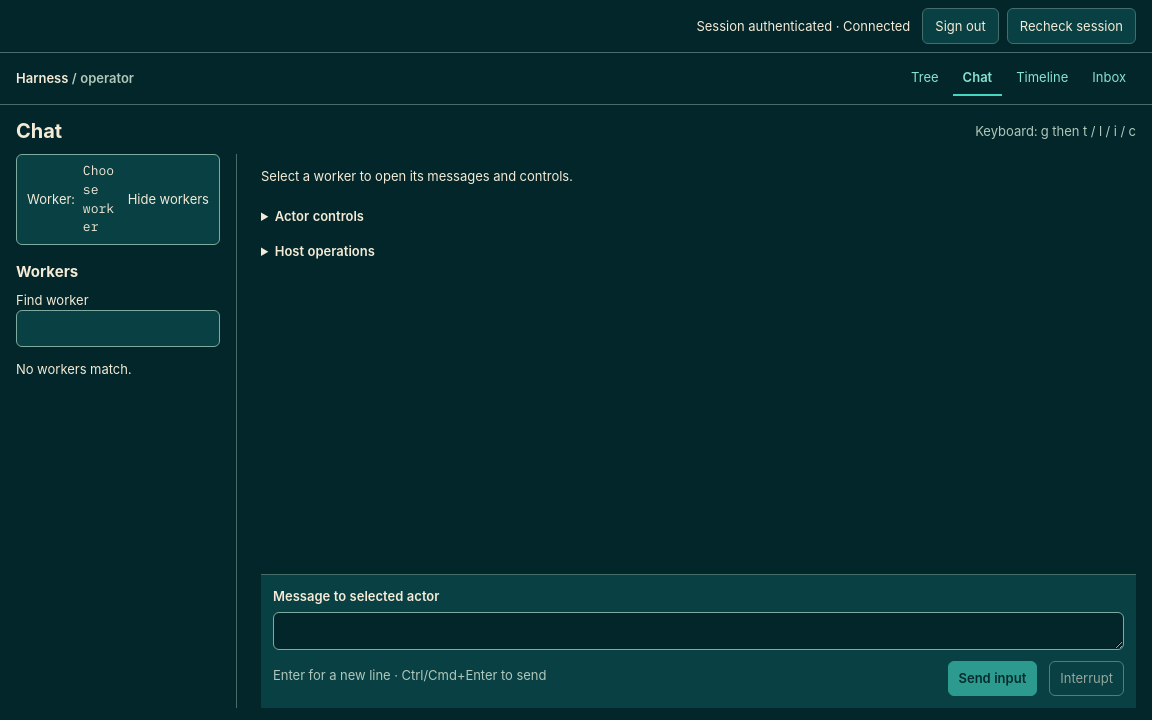
Test: ignores a stale status response after sign out without changing retained input
Click the button "Sign out": x=960, y=26 [922,8,999,44]
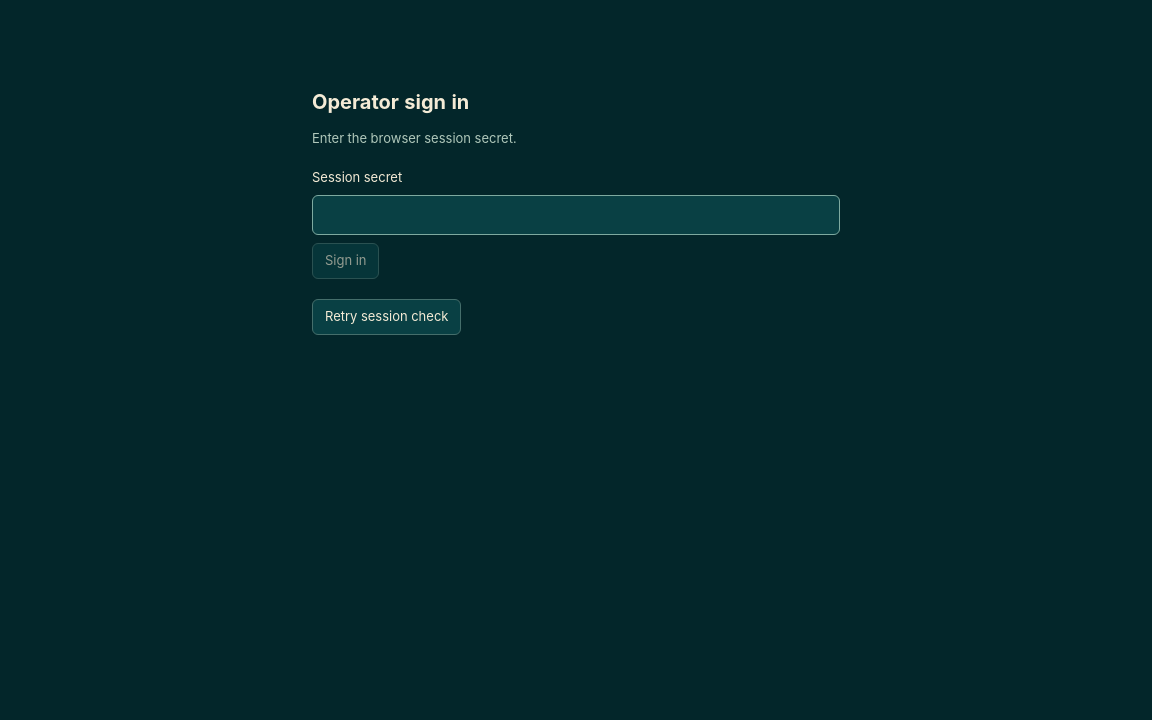
Expected: the heading "Operator sign in" is shown, [312,90,469,114]
Expected: the message "Session authenticated ·Connected" is gone
